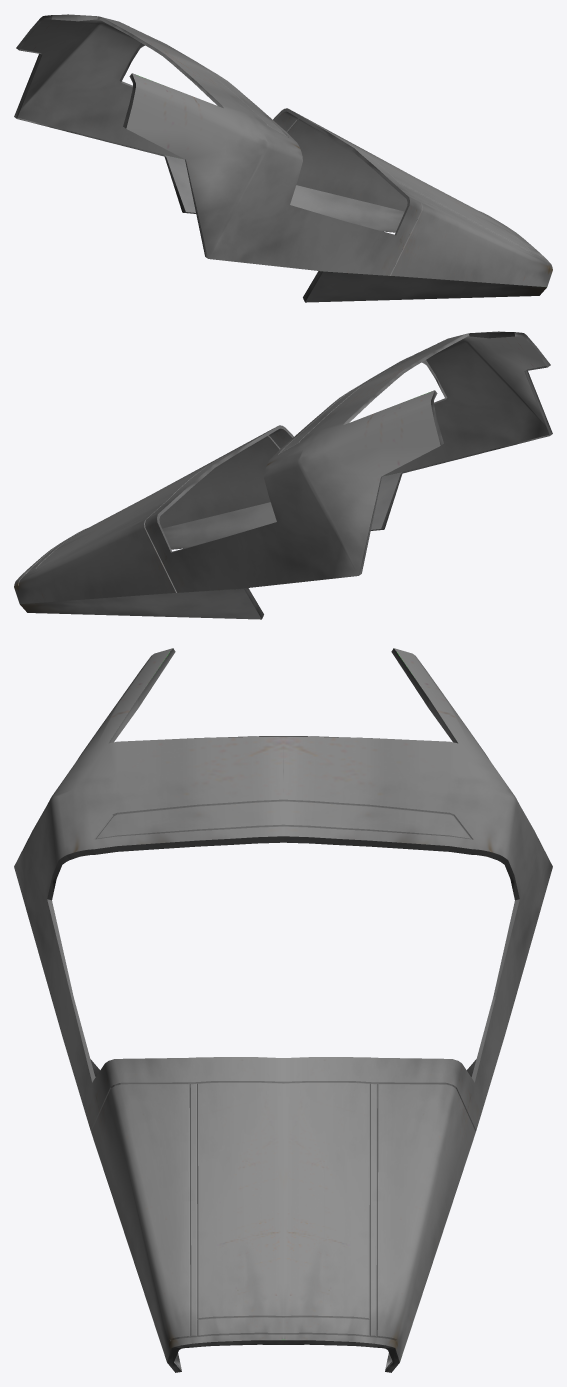
File: cabina.fbx
3 renders of one model, top to bottom at view 1: azimuth 30°, elevation 25°; view 2: azimuth 150°, elevation 25°; view 3: azimuth 270°, elevation 25°, orthographic. The views are drawn at different scales.
Parts seen in each view (by area): view 1: cabina; view 2: cabina; view 3: cabina.
Part boxes in pixels (x1,y1,x2,y2): cabina: [14, 14, 552, 302]; cabina: [14, 331, 552, 619]; cabina: [14, 648, 552, 1372].
Bounding box in the file's own units: 44.09 × 30.58 × 33.32.
